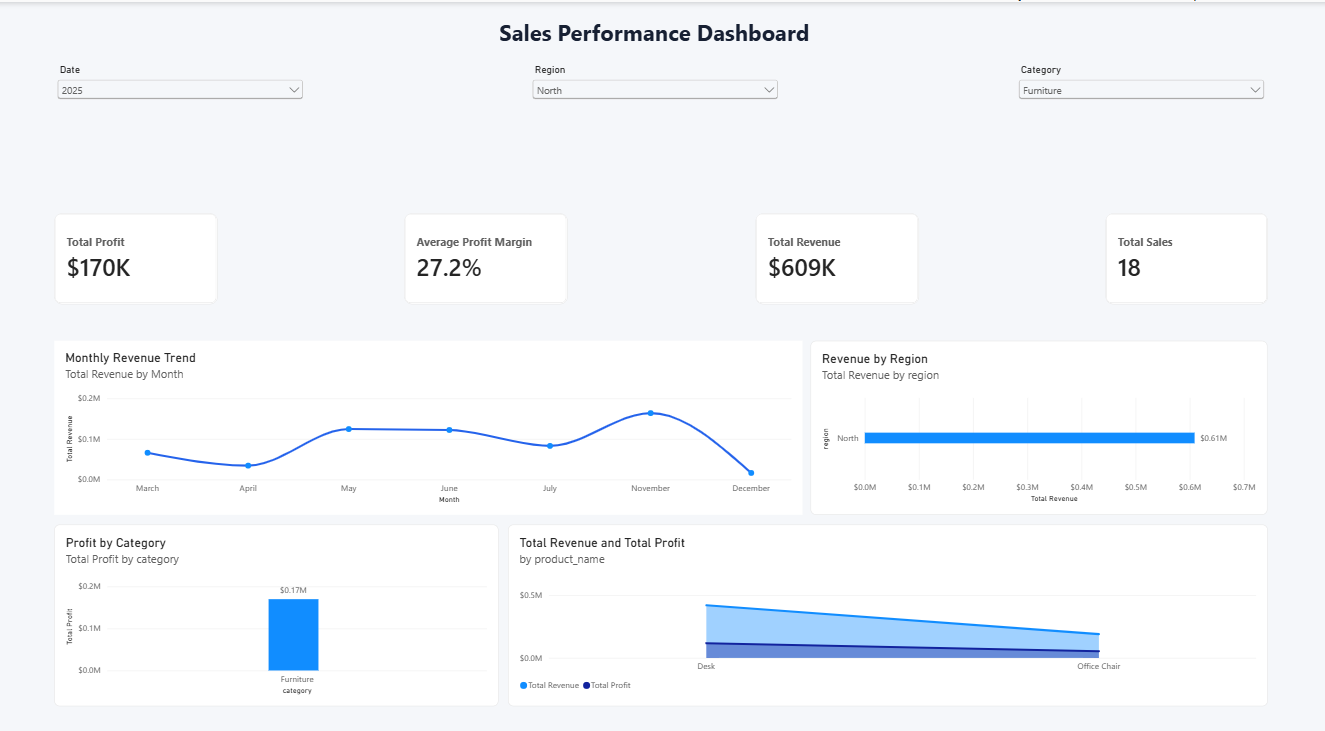

This screenshot's page, from the dashboard's own definition file:
{"tool":"powerbi","page":{"name":"Page 1","canvas":[1920,1080],"ordinal":0},"visuals":[{"type":"cardVisual","title":"Total Revenue","fields":{"Data":["Sales.Total Revenue"]},"box":[1096.1,306.7,236.7,131.7],"z":0},{"type":"cardVisual","title":"Total Profit","fields":{"Data":["Sales.Total Profit"]},"box":[81.7,306.7,236.7,131.7],"z":1000},{"type":"cardVisual","title":"Total Sales","fields":{"Data":["Sales.Total Sales"]},"box":[1603.3,306.7,235,131.7],"z":2000},{"type":"cardVisual","title":"Average Profit Margin","fields":{"Data":["Sales.Average Profit Margin"]},"box":[588.9,306.7,236.7,131.7],"z":3000},{"type":"lineChart","title":"Monthly Revenue Trend","fields":{"Category":["Sales.sale_date.Variation.Date Hierarchy.Month"],"Y":["Sales.Total Revenue"]},"box":[81.7,490,1083.3,251.7],"z":4000},{"type":"clusteredBarChart","title":"Revenue by Region","fields":{"Category":["Sales.region"],"Y":["Sales.Total Revenue"]},"box":[1176.7,490,661.7,251.7],"z":5000},{"type":"clusteredColumnChart","title":"Profit by Category","fields":{"Category":["Sales.category"],"Y":["Sales.Total Profit"]},"box":[81.7,756.7,643.3,263.3],"z":6000},{"type":"areaChart","fields":{"Category":["Sales.product_name"],"Y":["Sales.Total Revenue","Sales.Total Profit"]},"box":[738.3,756.7,1100,263.3],"z":7000},{"type":"slicer","fields":{"Values":["Sales.sale_date.Variation.Date Hierarchy.Year","Sales.sale_date.Variation.Date Hierarchy.Month"]},"box":[81.7,88.3,365,190],"z":8000},{"type":"slicer","fields":{"Values":["Sales.region"]},"box":[768.3,88.3,365,190],"z":9000},{"type":"slicer","fields":{"Values":["Sales.category"]},"box":[1473.3,88.3,365,146.7],"z":10000},{"type":"textbox","box":[725,21.7,451.7,66.7],"z":11000}]}

Visuals, with their boxes in screenshot pixels (x1, y1, x2, y2), scaled from the page's 1920x1080 canvas onto the 1325x731 screenshot:
"Total Revenue" cardVisual: [756,208,920,297]
"Total Profit" cardVisual: [56,208,220,297]
"Total Sales" cardVisual: [1106,208,1269,297]
"Average Profit Margin" cardVisual: [406,208,570,297]
"Monthly Revenue Trend" lineChart: [56,332,804,502]
"Revenue by Region" clusteredBarChart: [812,332,1269,502]
"Profit by Category" clusteredColumnChart: [56,512,500,690]
areaChart - Sales.product_name x Sales.Total Revenue: [510,512,1269,690]
slicer - Sales.sale_date.Variation.Date Hierarchy.Year x Sales.sale_date.Variation.Date Hierarchy.Month: [56,60,308,188]
slicer - Sales.region: [530,60,782,188]
slicer - Sales.category: [1017,60,1269,159]
textbox: [500,15,812,60]
